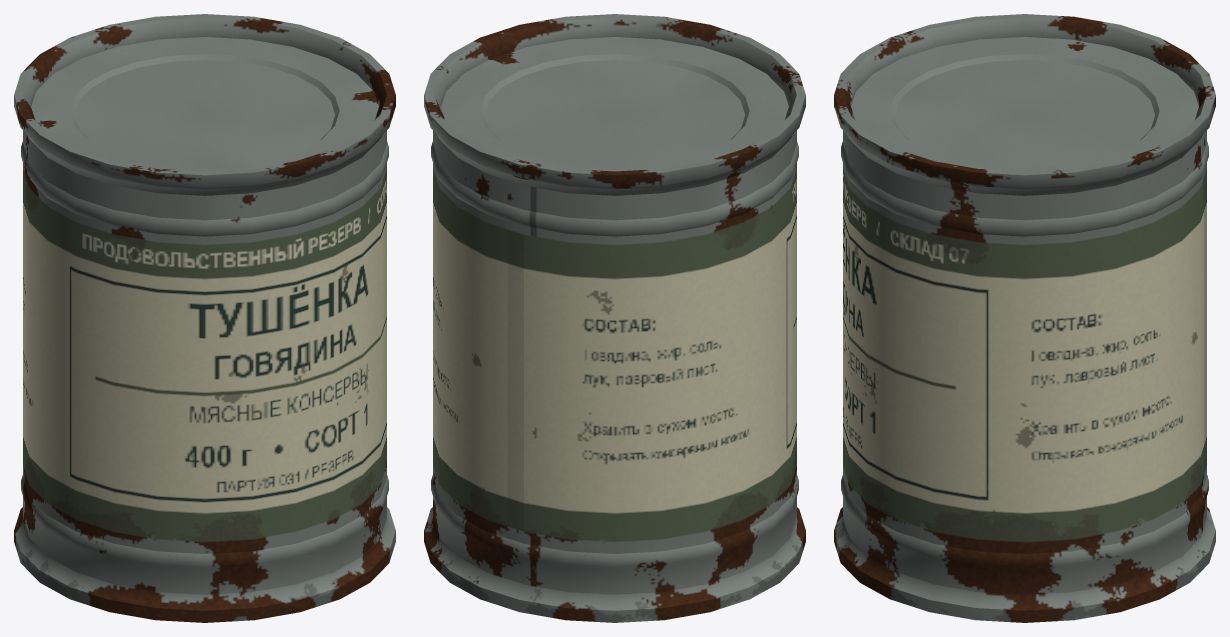
File: canned_food.glb
The picture shows the model from 3 angles, left to right: view 1: azimuth 30°, elevation 25°; view 2: azimuth 150°, elevation 25°; view 3: azimuth 270°, elevation 25°; orthographic projection.
Parts seen in each view (by area): view 1: canned_food_Mesh; view 2: canned_food_Mesh; view 3: canned_food_Mesh.
Boxes of the visible parts, x1,y1,x2,y2 form: canned_food_Mesh: (14, 14, 395, 622); canned_food_Mesh: (424, 14, 805, 622); canned_food_Mesh: (834, 14, 1215, 622).
Size of what is drawn, in the model's own units: 0.085 by 0.11 by 0.085.
Materials: 1 (1 with a texture image).
